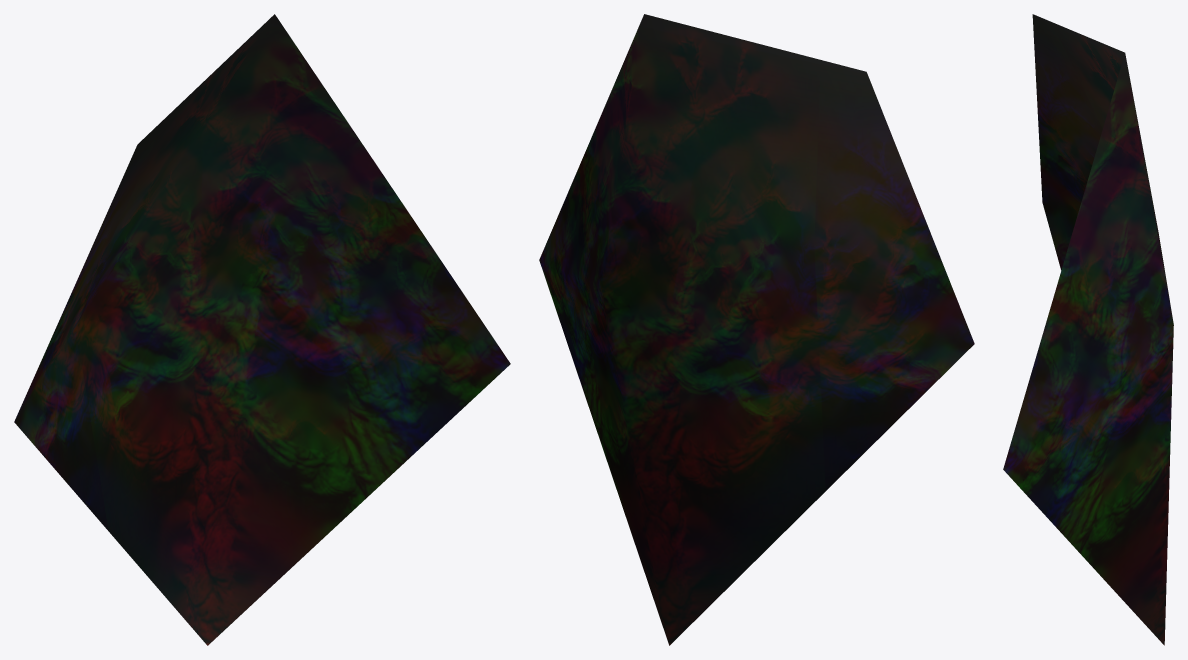
File: DeadOak_01_Mesh.fbx
The picture shows the model from 3 angles, left to right: view 1: azimuth 30°, elevation 25°; view 2: azimuth 150°, elevation 25°; view 3: azimuth 270°, elevation 25°; orthographic projection. The views are drawn at different scales.
Visible parts, largest first — view 1: Plane_003; view 2: Plane_003; view 3: Plane_003.
Boxes of the visible parts, x1=… form: Plane_003: x1=14, y1=14, x2=510, y2=645; Plane_003: x1=539, y1=14, x2=974, y2=645; Plane_003: x1=1003, y1=14, x2=1173, y2=645.
Bounding box in the file's own units: 1.54 × 1.96 × 0.4935.
